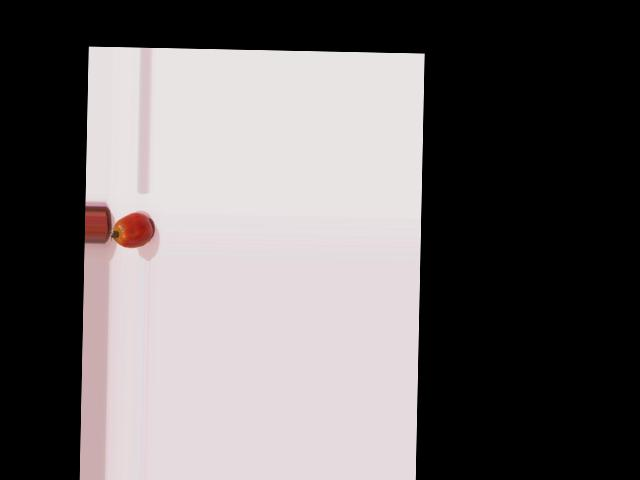tomato: (112, 212, 152, 248)
